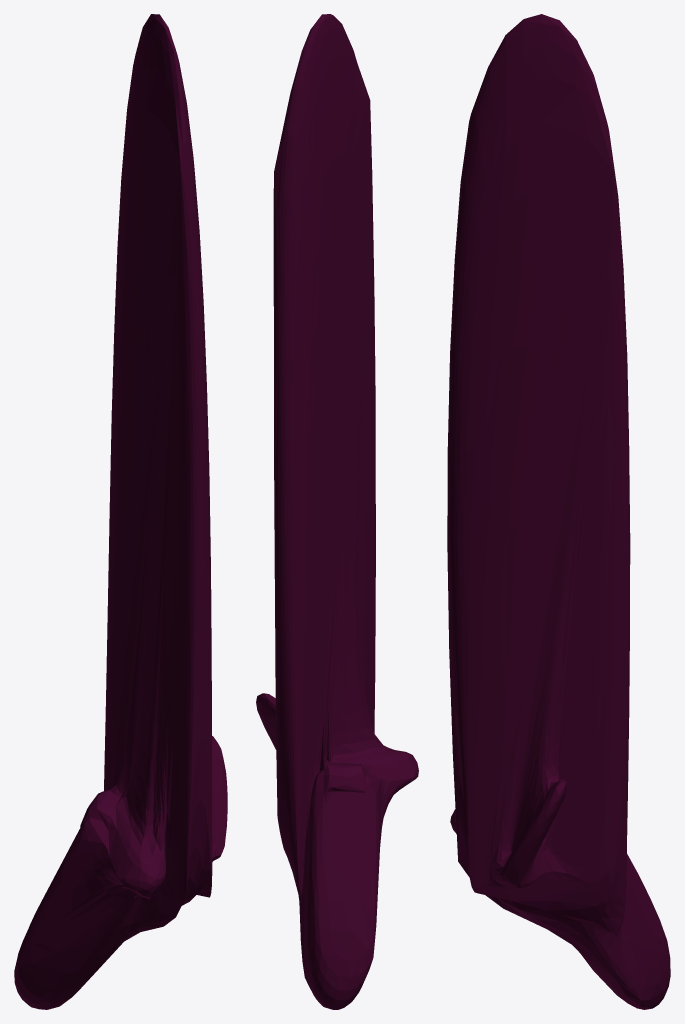
3 views of the same model, side by side, from view 1: azimuth 30°, elevation 25°; view 2: azimuth 150°, elevation 25°; view 3: azimuth 270°, elevation 25° (orthographic). The views are drawn at different scales.
Visible parts, largest first — view 1: 331_Cube.1355; view 2: 331_Cube.1355; view 3: 331_Cube.1355.
Boxes of the visible parts, x1,y1,x2,y2 form: 331_Cube.1355: (14, 14, 227, 1009); 331_Cube.1355: (256, 14, 418, 1009); 331_Cube.1355: (447, 14, 670, 1009).
Bounding box in the file's own units: 2.11 × 12.45 × 2.46.
